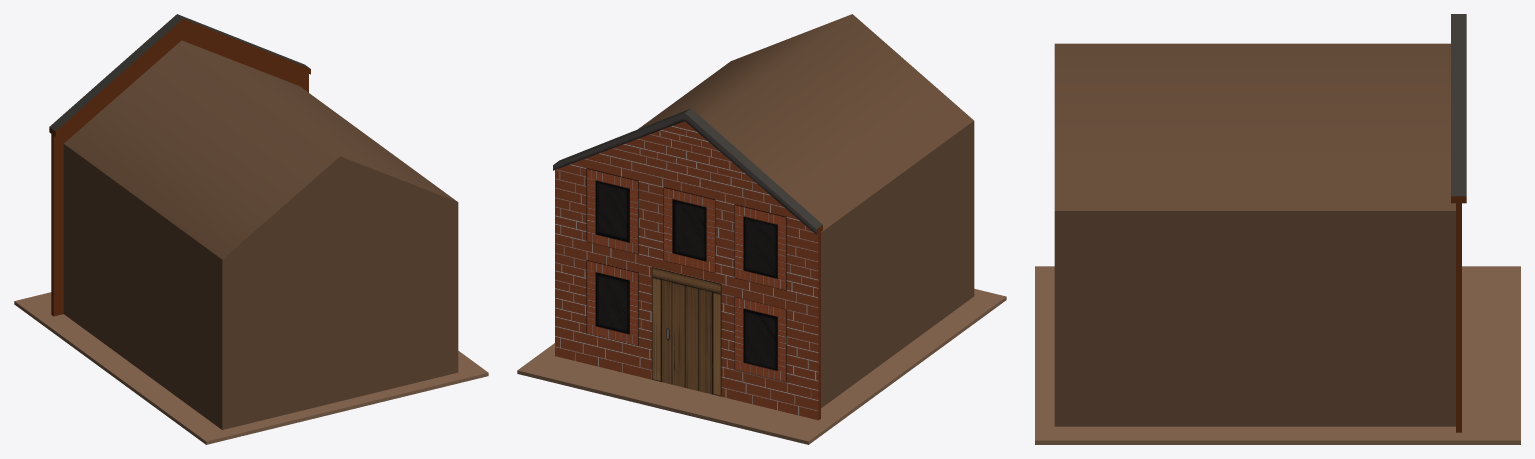
File: SheriffHouseWBacktex_001.fbx
3 renders of one model, left to right at view 1: azimuth 30°, elevation 25°; view 2: azimuth 150°, elevation 25°; view 3: azimuth 270°, elevation 25°, orthographic. The views are drawn at different scales.
Parts seen in each view (by area): view 1: pCube7, pCube6, pCube5; view 2: pCube6, pCube7, pCube5; view 3: pCube7, pCube5, pCube6.
Part boxes in pixels (x1,y1,x2,y2): pCube7: (63,40,458,429); pCube6: (49,14,310,316); pCube5: (14,292,488,444); pCube6: (553,108,822,420); pCube7: (638,14,974,408); pCube5: (517,288,1006,444); pCube7: (1054,43,1455,426); pCube5: (1035,266,1520,444); pCube6: (1451,14,1466,432).
Size of the model in its own units: 36.42 by 33.48 by 42.88.
Materials: 4 (1 with a texture image).
